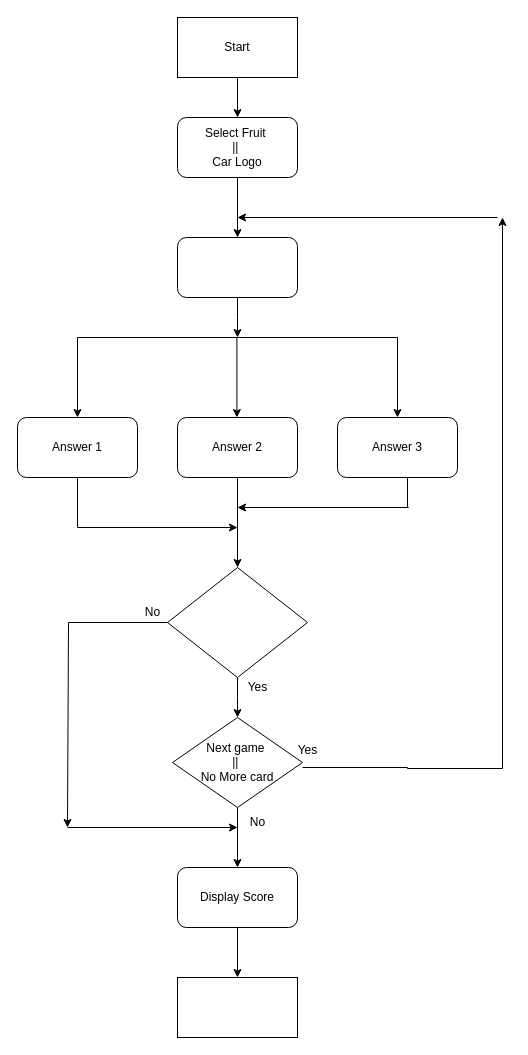
Image size: 528x1055. Some labels were removed from this diagram. Here are the shapes that lost their labels. From the top down, the centre of each, then its label:
At point 237,267: "Guess Logo".
At point 237,622: "Guess === answer".
At point 237,1007: "Game Over".
